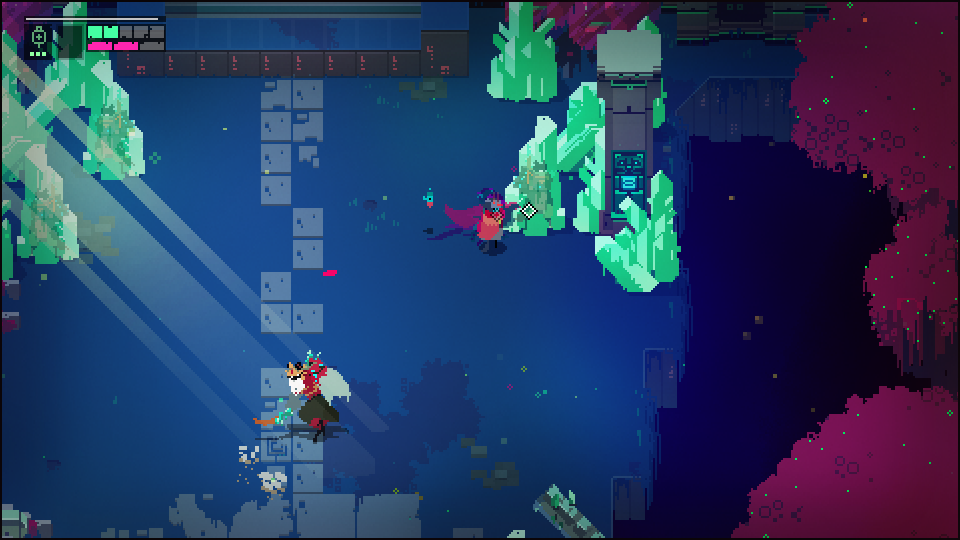hanged_man: (260, 350, 352, 442)
player: (480, 199, 508, 250)
